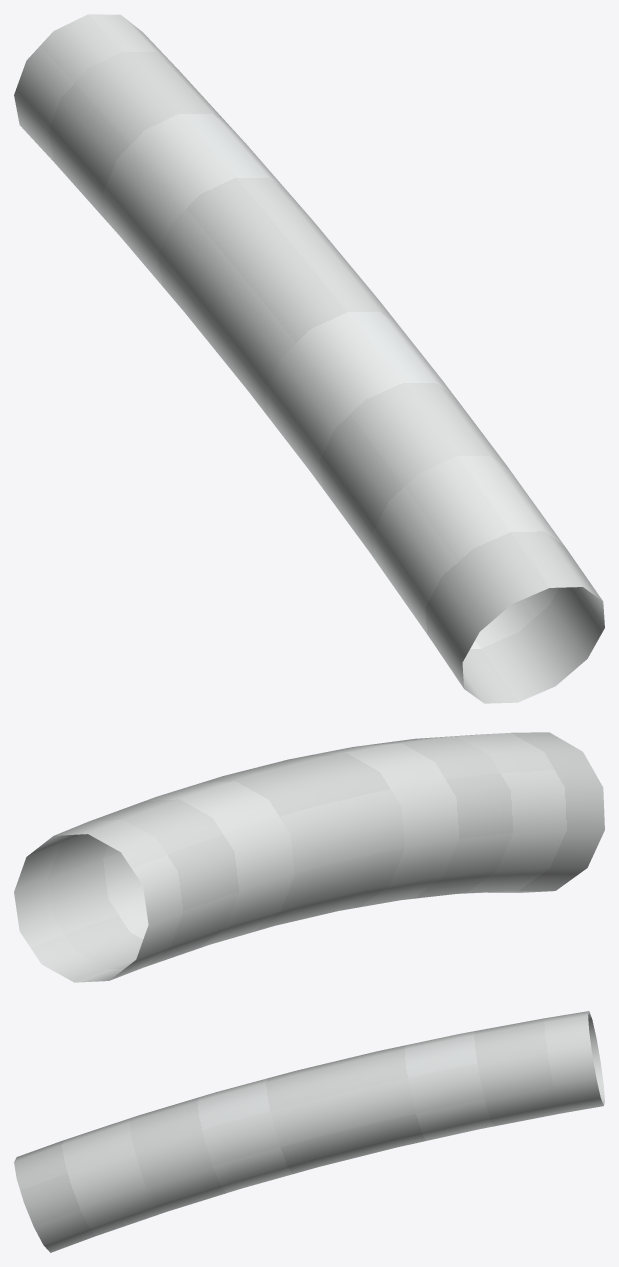
File: luminairearm_vannuystriple_c9.obj
The picture shows the model from 3 angles, top to bottom: view 1: azimuth 30°, elevation 25°; view 2: azimuth 150°, elevation 25°; view 3: azimuth 270°, elevation 25°; orthographic projection. The views are drawn at different scales.
Parts seen in each view (by area): view 1: luminairearm_vannuystriple_c9; view 2: luminairearm_vannuystriple_c9; view 3: luminairearm_vannuystriple_c9.
Boxes of the visible parts, left/top/right/bottom form: luminairearm_vannuystriple_c9: left=14, top=14, right=604, bottom=703; luminairearm_vannuystriple_c9: left=14, top=732, right=604, bottom=982; luminairearm_vannuystriple_c9: left=14, top=1011, right=604, bottom=1252.
Bounding box in the file's own units: 0.1819 × 0.4556 × 1.05.
